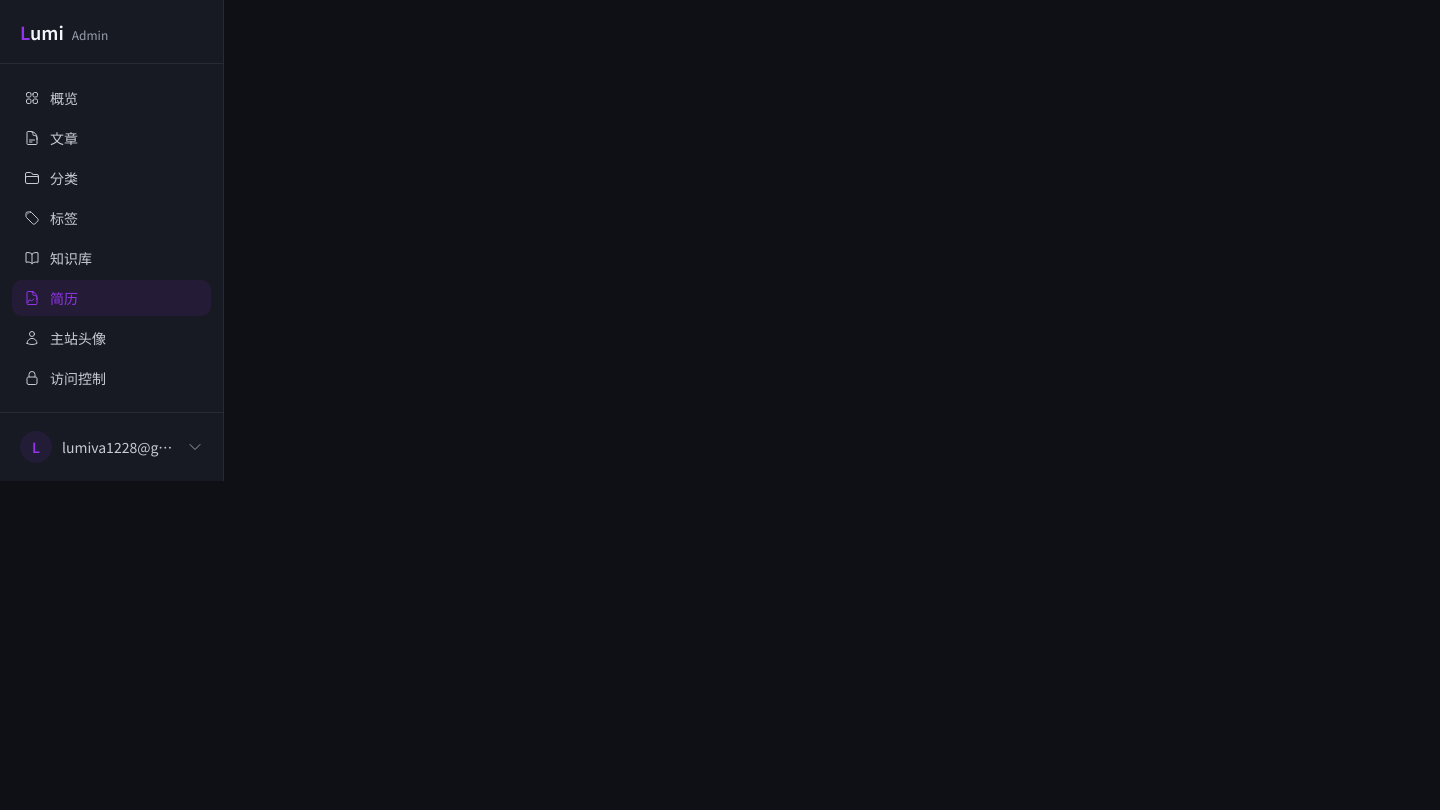
Test: AdminSidebar › 点击外部区域时关闭账号菜单
Click the button with aria-label "打开账号菜单" at (112, 447), box [12,425,211,469]
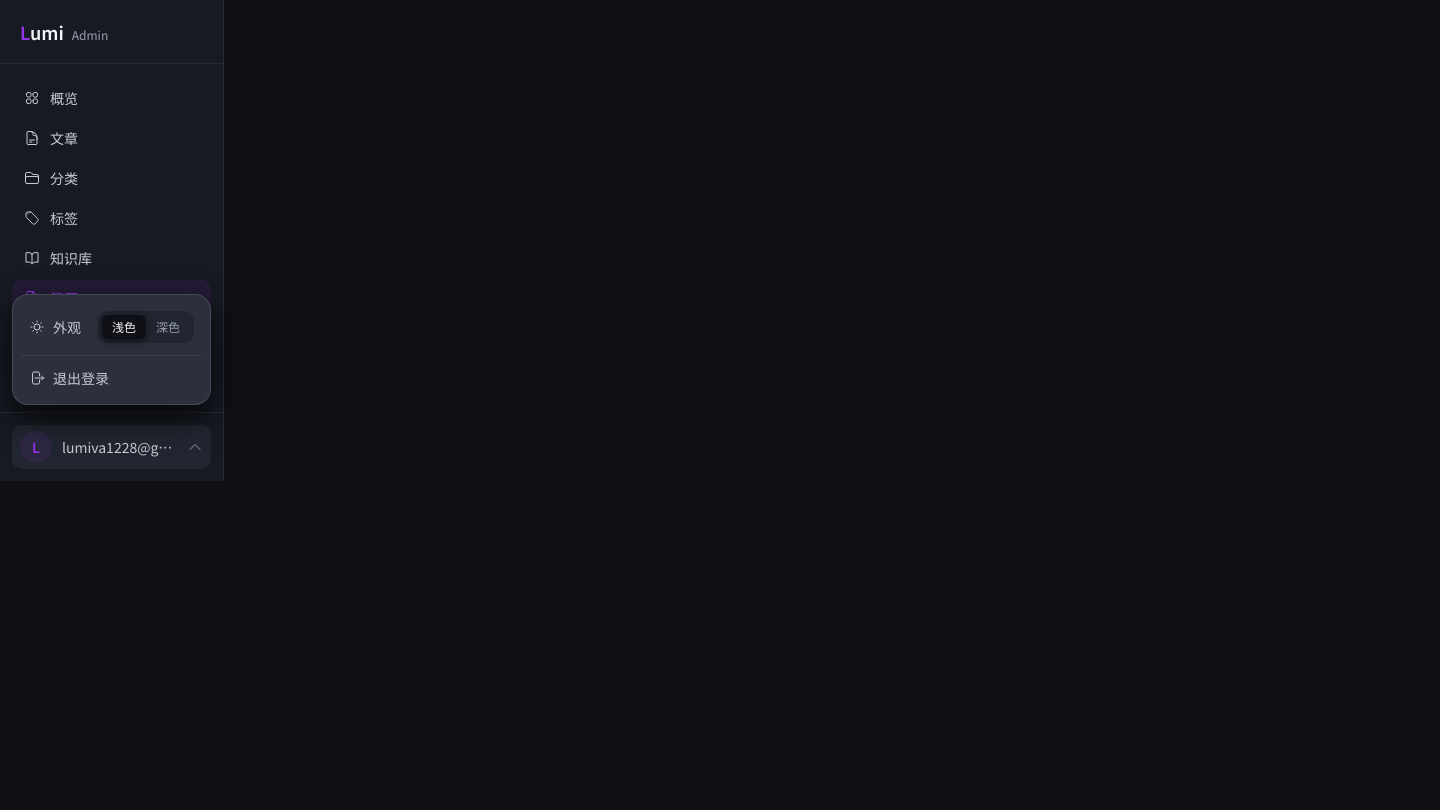
Press the mouse on the element that starts with "umi" at (720, 405), box [0,0,1439,809]
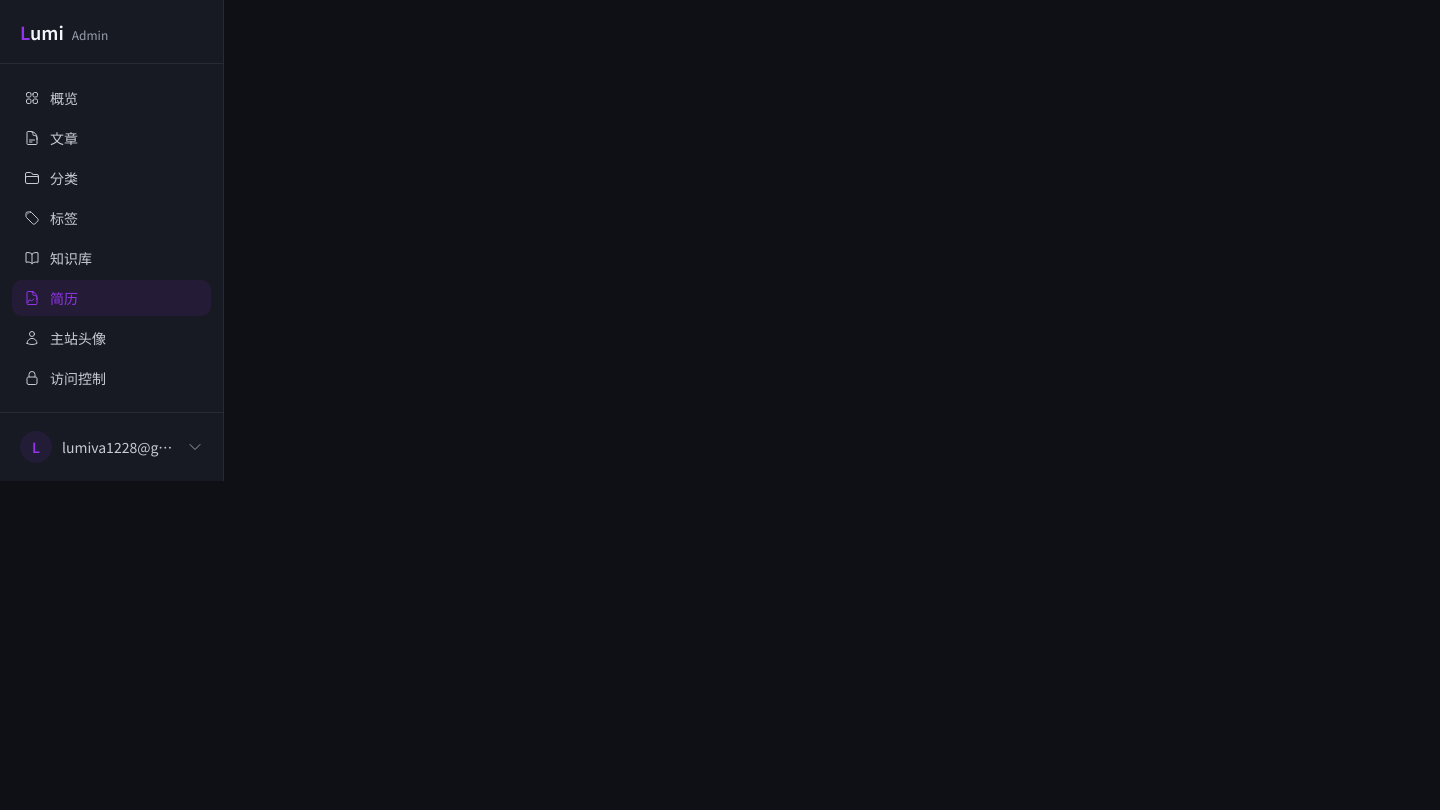
Result: the text "外观" is gone
